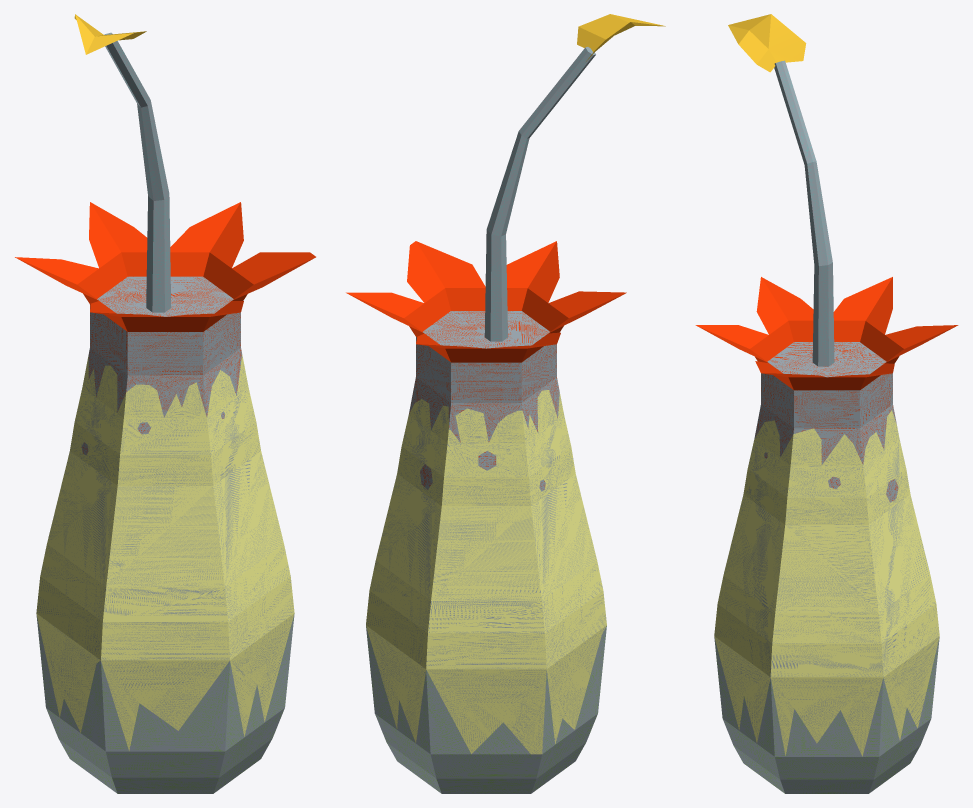
The model's file is Flower_Jungle_02.fbx.
The picture shows the model from 3 angles, left to right: view 1: azimuth 30°, elevation 25°; view 2: azimuth 150°, elevation 25°; view 3: azimuth 270°, elevation 25°; orthographic projection. The views are drawn at different scales.
Parts seen in each view (by area): view 1: Model; view 2: Model; view 3: Model.
Boxes of the visible parts, bbox=[...] form: Model: bbox=[15, 14, 315, 793]; Model: bbox=[346, 14, 665, 793]; Model: bbox=[695, 14, 958, 793].
Size of the model in its own units: 51.05 by 156 by 53.53.
